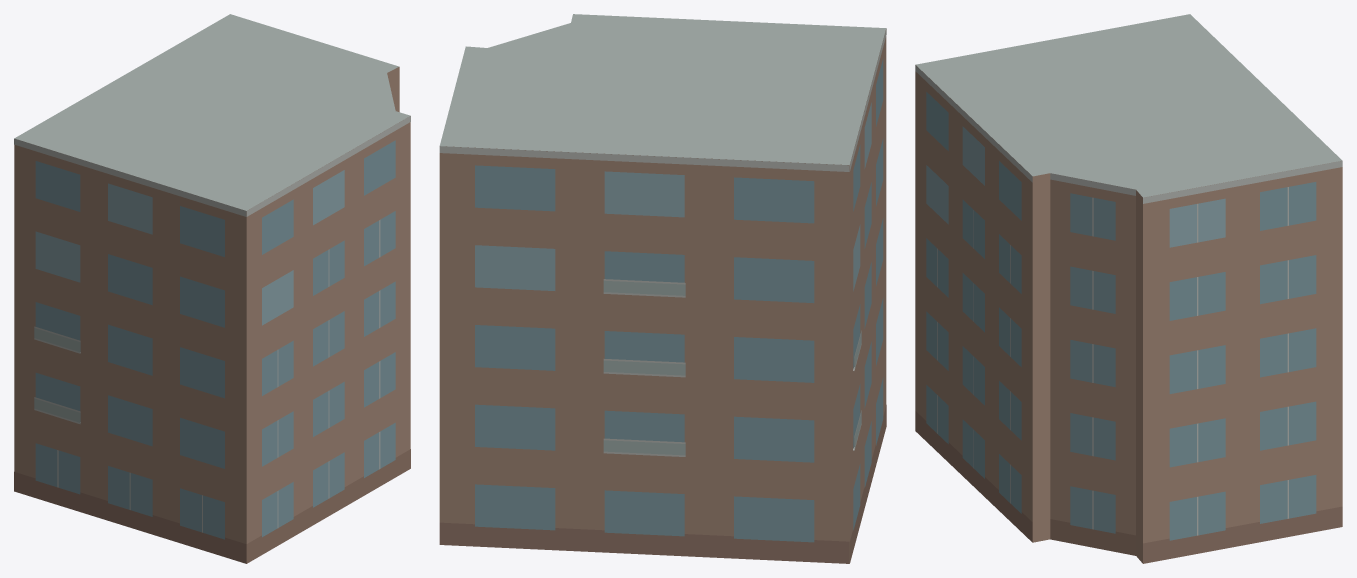
The model's file is survey-upis-32683274.glb.
3 renders of one model, left to right at view 1: azimuth 30°, elevation 25°; view 2: azimuth 150°, elevation 25°; view 3: azimuth 270°, elevation 25°, orthographic. The views are drawn at different scales.
Visible parts, largest first — view 1: survey-upis-32683274.tmp; view 2: survey-upis-32683274.tmp; view 3: survey-upis-32683274.tmp.
Boxes of the visible parts, box(x1,y1,x2,y2) form: survey-upis-32683274.tmp: box(14, 14, 410, 563); survey-upis-32683274.tmp: box(439, 14, 886, 563); survey-upis-32683274.tmp: box(915, 14, 1342, 563).
Size of the model in its own units: 15.12 by 14.05 by 14.86.
